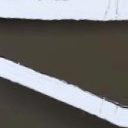crackTip: (1, 17, 128, 109)
